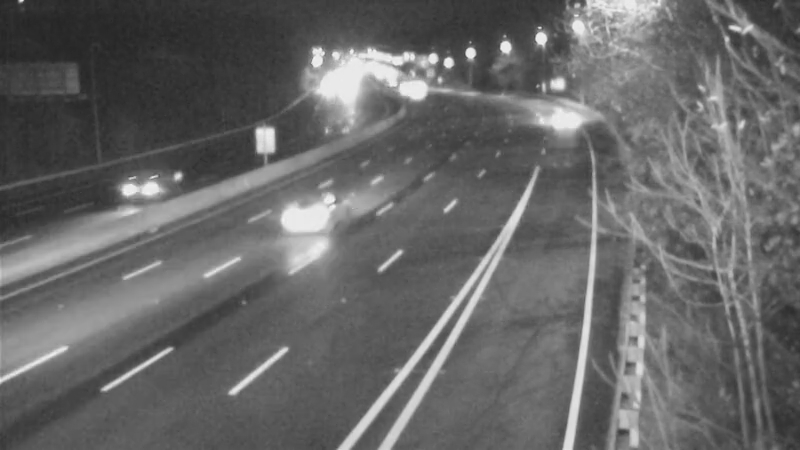vehicle: (263, 181, 343, 261), (100, 149, 180, 229), (539, 98, 589, 148)
